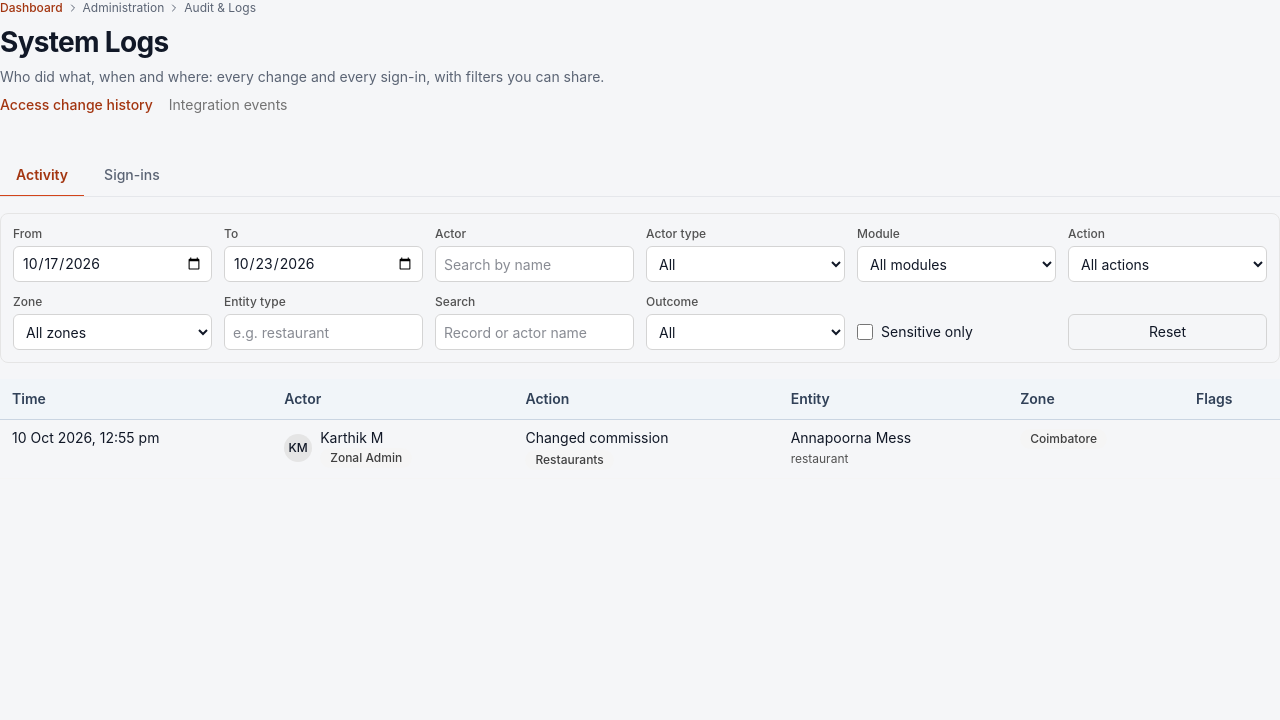
row drawer › a row opens the drawer; Escape closes it and focus returns to that row
The image size is (1280, 720).
Click the button with aria-label "View details of Changed commission" at [86, 438], box [12,428,159,448]
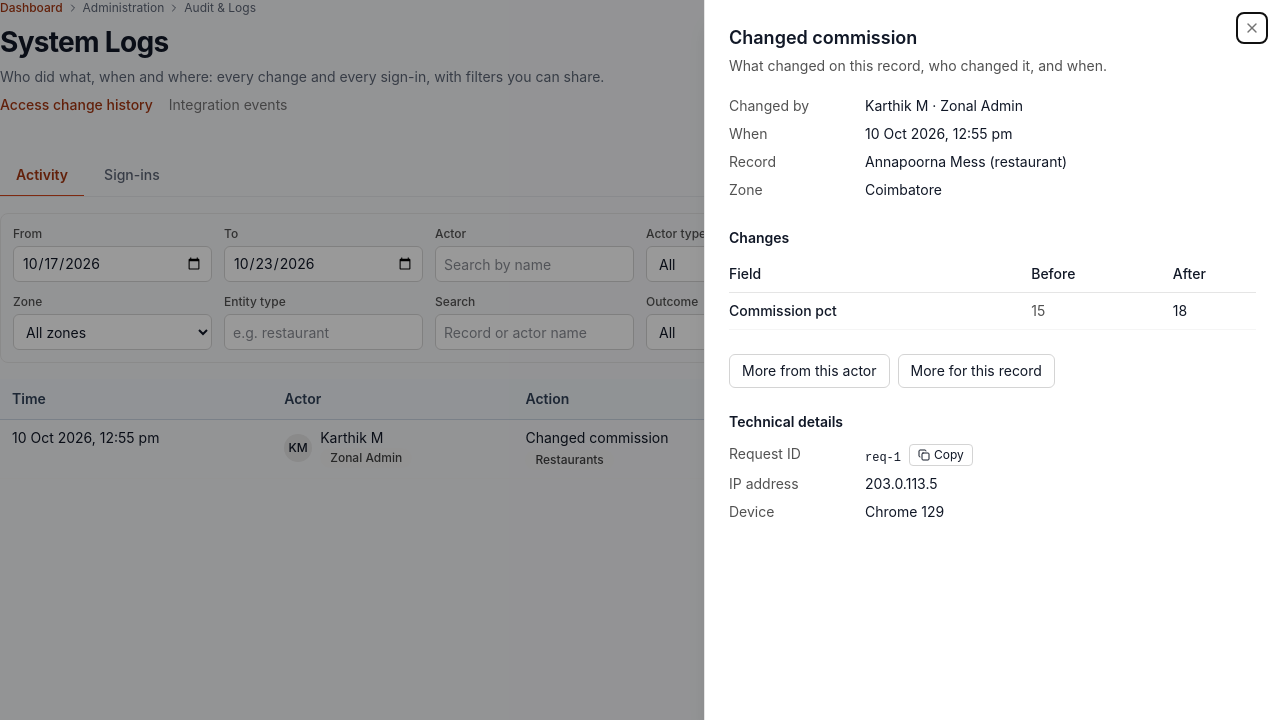
Result: the table named "Field changes" is shown at [729,256,1256,330]
Result: the text "req-1" is shown at [865,451,901,465]
Press Escape
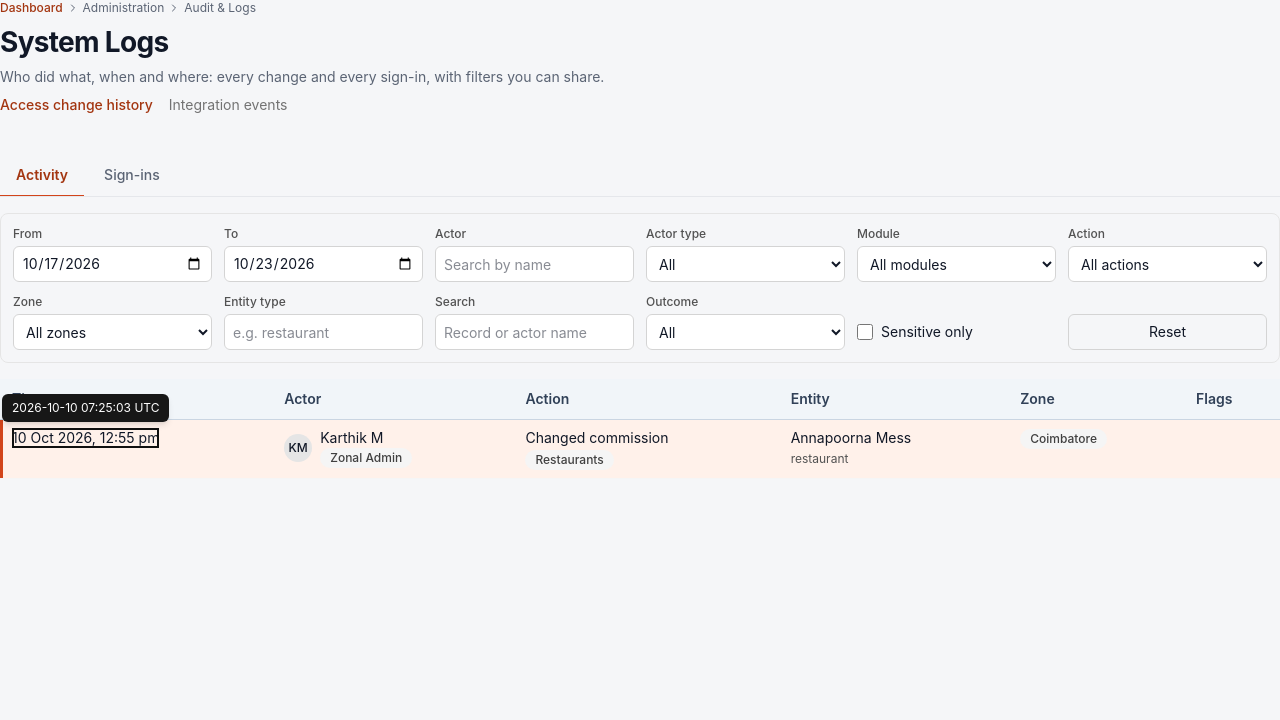
Result: the dialog is gone
